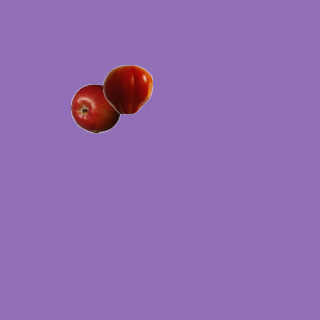Apple Braeburn: (70, 83, 120, 133)
Tomato 1: (102, 64, 152, 114)
